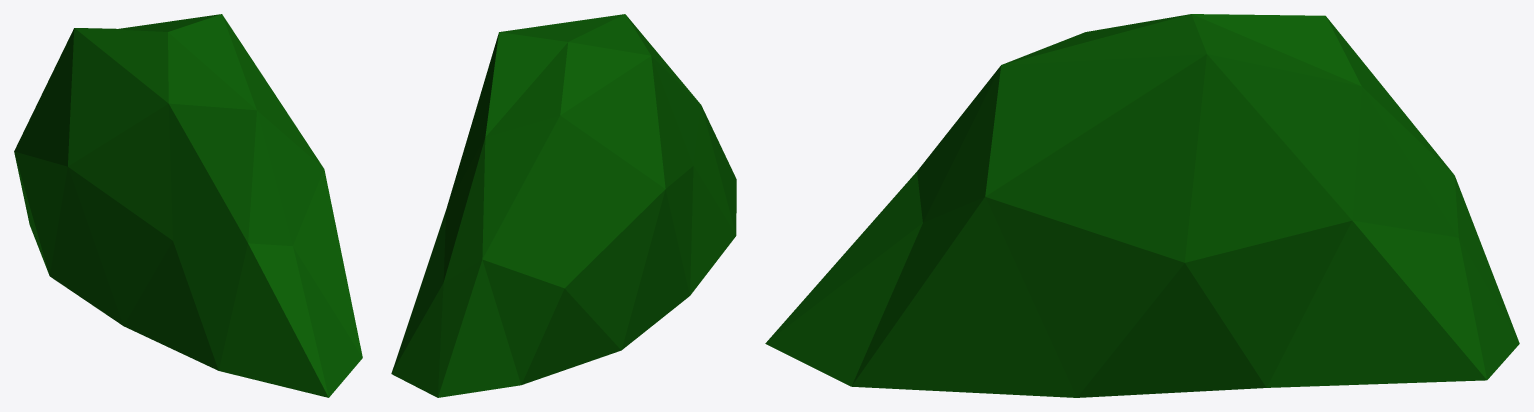
File: Bush1.fbx
The picture shows the model from 3 angles, left to right: view 1: azimuth 30°, elevation 25°; view 2: azimuth 150°, elevation 25°; view 3: azimuth 270°, elevation 25°; orthographic projection. The views are drawn at different scales.
Visible parts, largest first — view 1: Iкосфера; view 2: Iкосфера; view 3: Iкосфера.
Boxes of the visible parts, left/top/right/bottom form: Iкосфера: left=14, top=14, right=362, bottom=397; Iкосфера: left=391, top=14, right=736, bottom=397; Iкосфера: left=765, top=14, right=1519, bottom=397.
Size of the model in its own units: 107 by 131 by 271.
